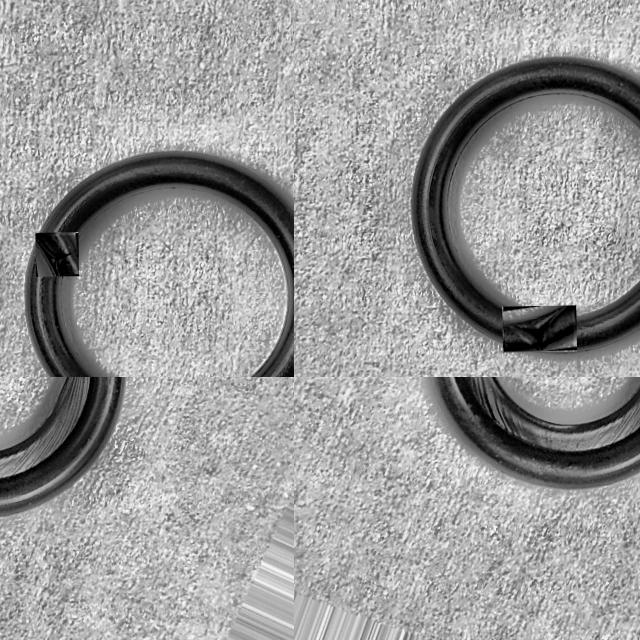切割缺陷: (503, 305, 572, 351), (35, 236, 78, 276)
裂纹: (454, 377, 640, 451), (0, 377, 89, 478)
